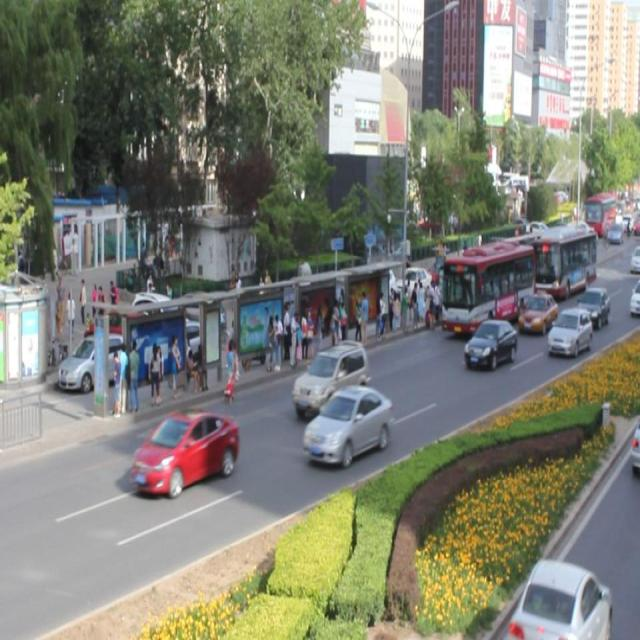car: (131, 406, 237, 494), (302, 383, 389, 463), (293, 340, 369, 415), (464, 317, 516, 368), (546, 308, 590, 352), (517, 292, 555, 333), (574, 288, 609, 327)
van: (439, 241, 534, 329), (524, 218, 592, 296)
